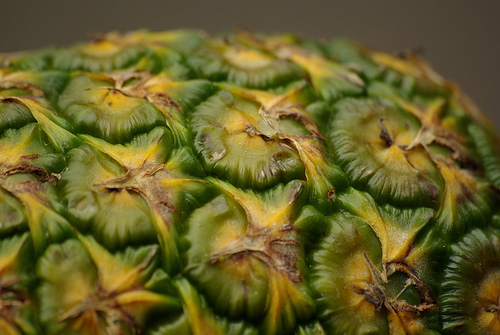pineapple: (3, 26, 499, 334)
